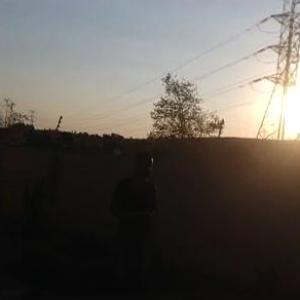follow: (106, 146, 161, 299)
